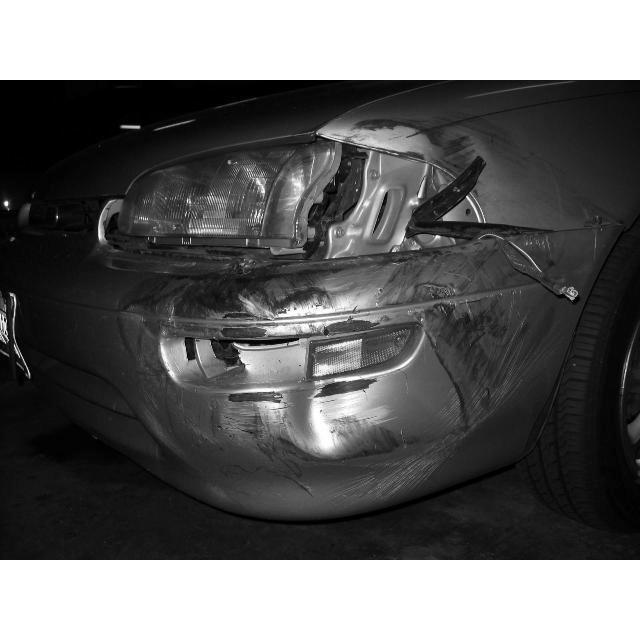front-bumper-dent: (144, 265, 512, 515)
